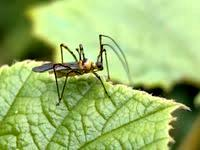Helopeltis-insect: (29, 54, 108, 80)
